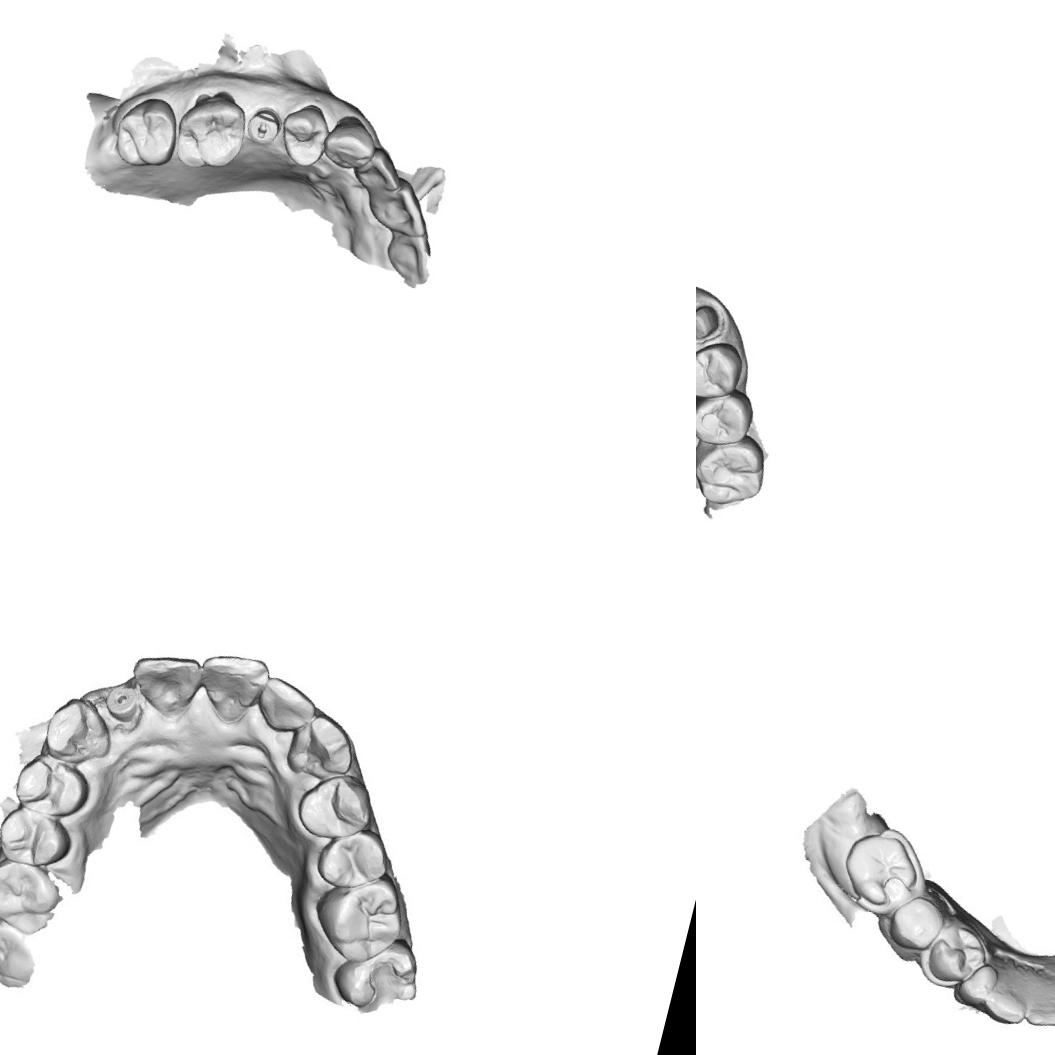canine: (277, 706, 364, 792), (36, 690, 120, 770), (317, 108, 380, 174), (976, 973, 1030, 1030)
crown: (696, 293, 730, 349)
implant: (99, 682, 143, 724)
implant_minus: (239, 102, 286, 150)
incisor: (122, 642, 210, 720), (188, 645, 269, 727), (364, 172, 442, 242), (251, 672, 322, 742), (375, 224, 438, 287), (348, 140, 408, 199), (1021, 979, 1055, 1034)
molar: (302, 860, 412, 977), (836, 821, 928, 915), (167, 84, 255, 179), (696, 420, 773, 514), (106, 88, 186, 176), (0, 854, 68, 939), (696, 377, 759, 452)
premolar: (290, 761, 384, 848), (311, 818, 395, 898), (7, 747, 92, 826), (0, 801, 81, 876), (271, 96, 334, 173), (922, 922, 988, 992), (884, 893, 950, 960), (696, 332, 748, 406)
